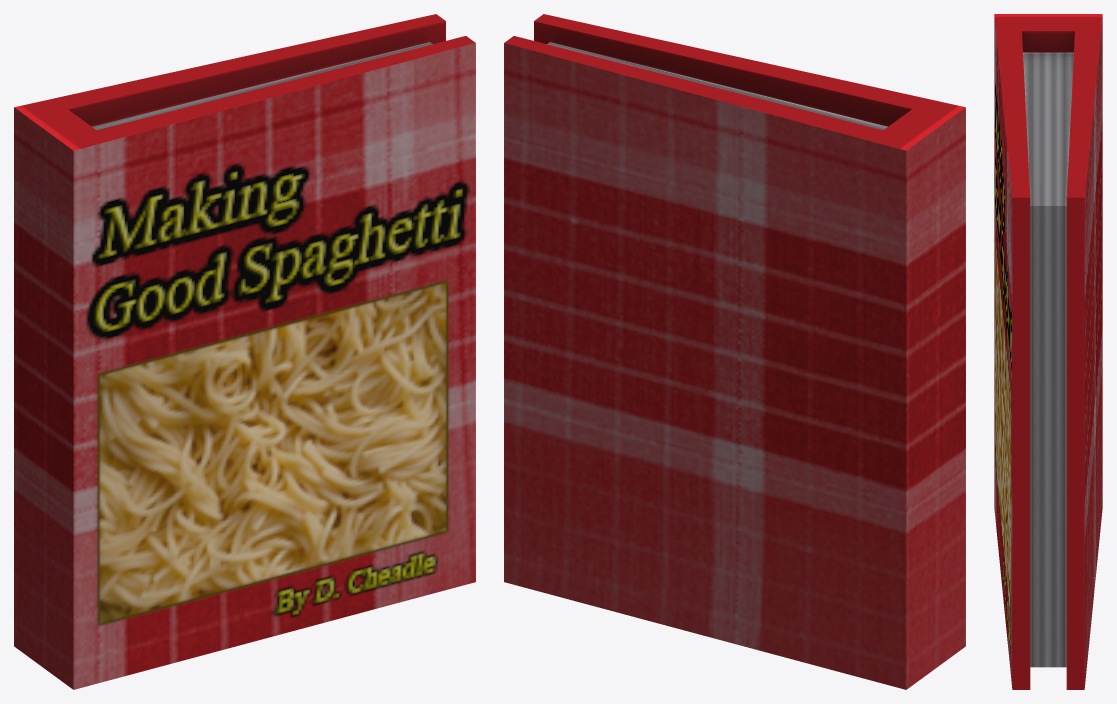
The model's file is cook_book.FBX.
3 views of the same model, side by side, from view 1: azimuth 30°, elevation 25°; view 2: azimuth 150°, elevation 25°; view 3: azimuth 270°, elevation 25° (orthographic). The views are drawn at different scales.
Visible parts, largest first — view 1: Box001; view 2: Box001; view 3: Box001.
Part boxes in pixels (x1,y1,x2,y2): Box001: (14, 14, 475, 689); Box001: (504, 14, 965, 689); Box001: (994, 14, 1102, 689).
Size of the model in its own units: 40 by 50 by 10.
Materials: 1 (1 with a texture image).
